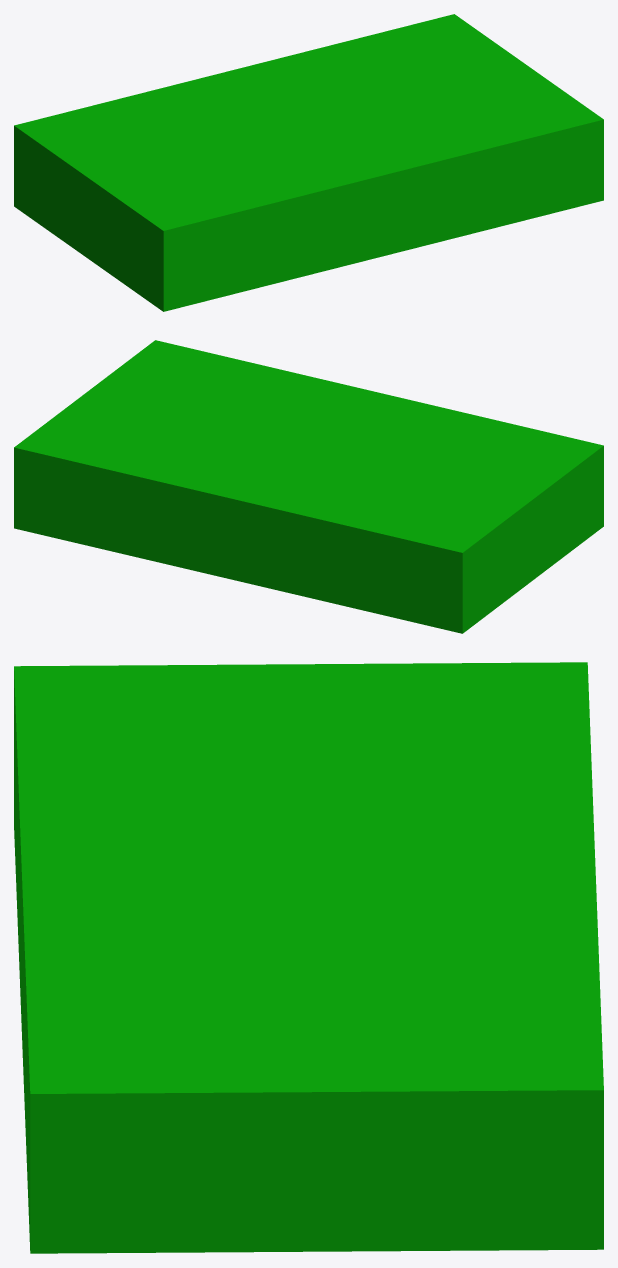
Rendered from alligator_body.fbx.
3 renders of one model, top to bottom at view 1: azimuth 30°, elevation 25°; view 2: azimuth 150°, elevation 25°; view 3: azimuth 270°, elevation 25°, orthographic. The views are drawn at different scales.
Visible parts, largest first — view 1: transform2; view 2: transform2; view 3: transform2.
Boxes of the visible parts, x1,y1,x2,y2 form: transform2: (14, 14, 603, 311); transform2: (14, 340, 603, 633); transform2: (14, 662, 603, 1253).
Size of the model in its own units: 0.4642 by 0.08 by 0.2681.
